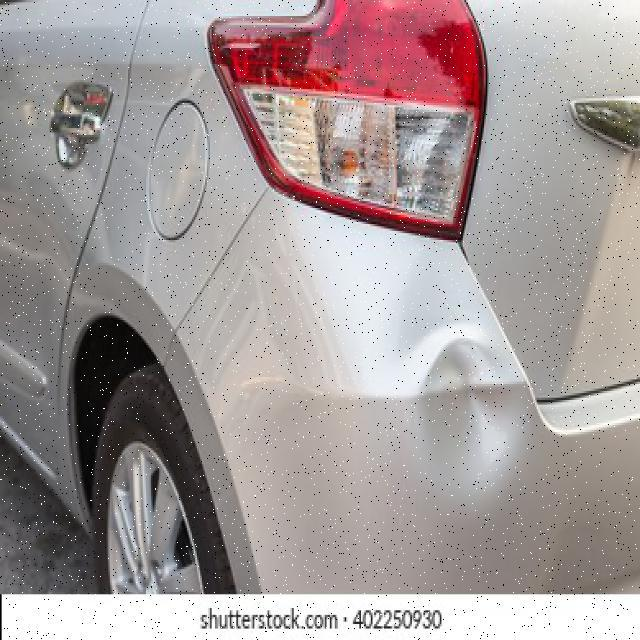rear-bumper-dent: (166, 322, 638, 596)
